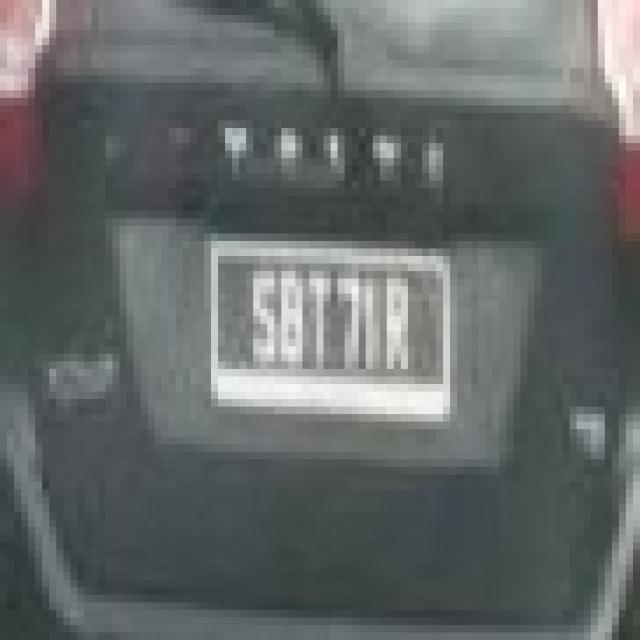1: (361, 271, 378, 371)
7: (335, 273, 365, 369)
B: (278, 268, 309, 366)
R: (384, 278, 414, 372)
S: (250, 269, 279, 367)
T: (306, 269, 333, 367)
